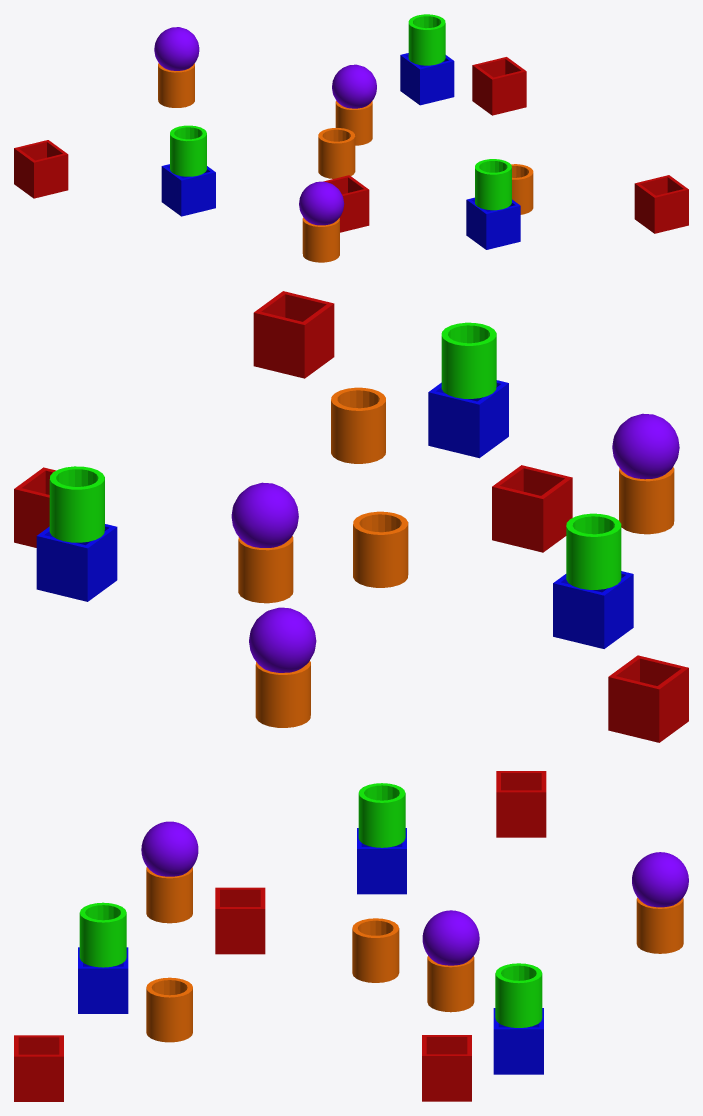
File: Obstacles.glb
3 renders of one model, top to bottom at view 1: azimuth 30°, elevation 25°; view 2: azimuth 150°, elevation 25°; view 3: azimuth 270°, elevation 25°, orthographic. The views are drawn at different scales.
Visible parts, largest first — view 1: obstacle_9, obstacle_7, obstacle_8, obstacle_12, obstacle_11, obstacle_10, obstacle_3, obstacle_4, obstacle_1, obstacle_2, obstacle_5, obstacle_6; view 2: obstacle_9, obstacle_8, obstacle_7, obstacle_10, obstacle_11, obstacle_12, obstacle_4, obstacle_1, obstacle_5, obstacle_2, obstacle_6, obstacle_3; view 3: obstacle_9, obstacle_8, obstacle_7, obstacle_10, obstacle_11, obstacle_12, obstacle_5, obstacle_1, obstacle_4, obstacle_3, obstacle_2, obstacle_6.
Part boxes in pixels (x1=…): obstacle_9: x1=400, y1=14, x2=454, y2=105; obstacle_7: x1=161, y1=125, x2=215, y2=216; obstacle_8: x1=466, y1=159, x2=520, y2=249; obstacle_12: x1=299, y1=181, x2=344, y2=262; obstacle_11: x1=154, y1=27, x2=199, y2=107; obstacle_10: x1=332, y1=64, x2=376, y2=145; obstacle_3: x1=472, y1=57, x2=526, y2=115; obstacle_4: x1=634, y1=175, x2=688, y2=233; obstacle_1: x1=14, y1=140, x2=68, y2=198; obstacle_2: x1=318, y1=128, x2=355, y2=178; obstacle_5: x1=323, y1=175, x2=369, y2=232; obstacle_6: x1=511, y1=164, x2=533, y2=214; obstacle_9: x1=36, y1=466, x2=117, y2=601; obstacle_8: x1=428, y1=322, x2=508, y2=458; obstacle_7: x1=553, y1=513, x2=633, y2=648; obstacle_10: x1=231, y1=482, x2=298, y2=603; obstacle_11: x1=249, y1=607, x2=316, y2=727; obstacle_12: x1=612, y1=413, x2=679, y2=534; obstacle_4: x1=253, y1=291, x2=334, y2=378; obstacle_1: x1=608, y1=655, x2=688, y2=742; obstacle_5: x1=492, y1=465, x2=572, y2=552; obstacle_2: x1=353, y1=511, x2=408, y2=587; obstacle_6: x1=331, y1=387, x2=385, y2=463; obstacle_3: x1=14, y1=467, x2=55, y2=547; obstacle_9: x1=493, y1=963, x2=543, y2=1074; obstacle_8: x1=78, y1=902, x2=128, y2=1013; obstacle_7: x1=357, y1=783, x2=406, y2=894; obstacle_10: x1=422, y1=910, x2=479, y2=1012; obstacle_11: x1=632, y1=852, x2=688, y2=953; obstacle_12: x1=141, y1=821, x2=198, y2=923; obstacle_5: x1=215, y1=887, x2=265, y2=954; obstacle_1: x1=496, y1=771, x2=546, y2=837; obstacle_4: x1=14, y1=1035, x2=63, y2=1101; obstacle_3: x1=422, y1=1035, x2=471, y2=1101; obstacle_2: x1=352, y1=918, x2=399, y2=982; obstacle_6: x1=146, y1=977, x2=192, y2=1042.
Size of the model in its own units: 1.17 by 0.1735 by 1.17.
Materials: 18 (18 with a texture image).
